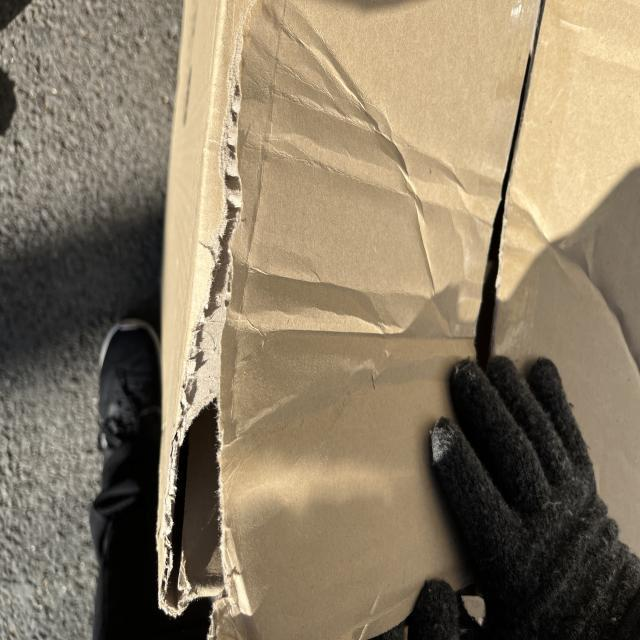damaged: (168, 256, 234, 609)
